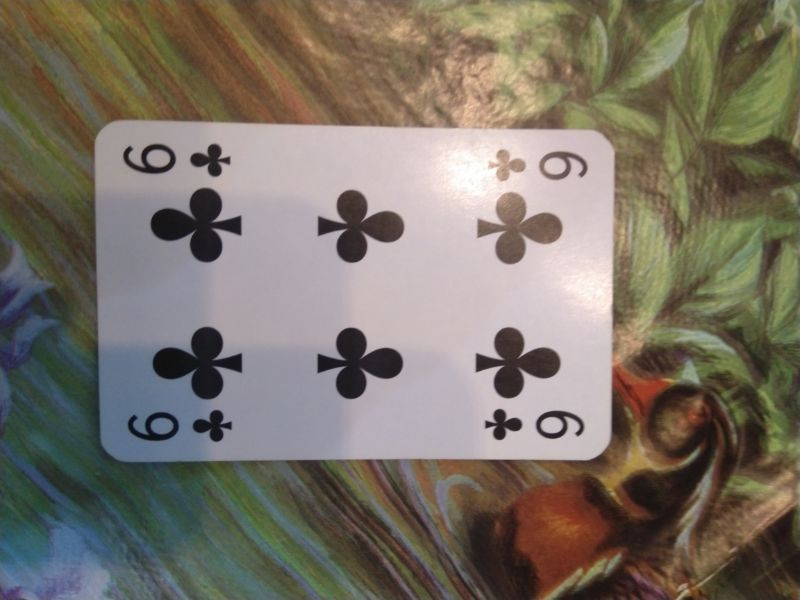6c: (118, 130, 239, 182), (475, 399, 590, 446), (123, 406, 241, 451), (480, 143, 594, 187)
